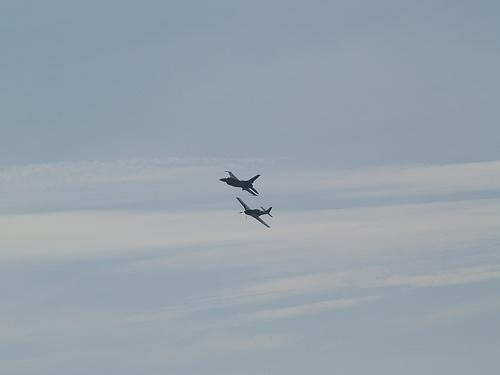aeroplane: (216, 164, 264, 201), (229, 196, 278, 231)
